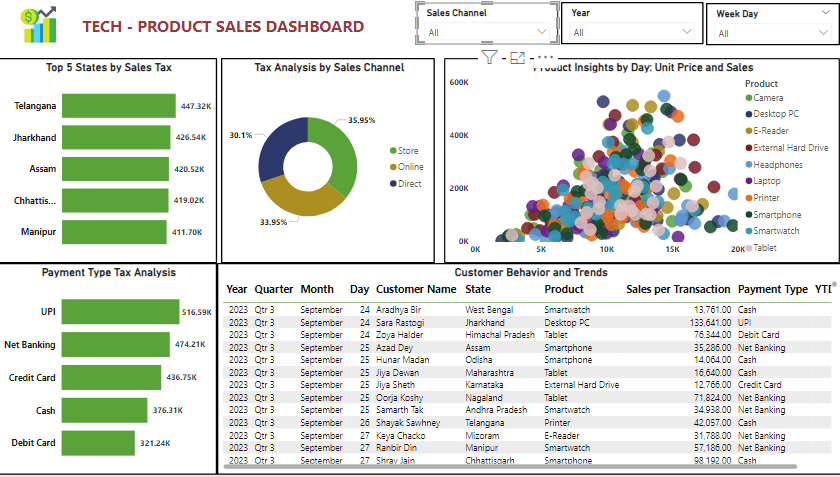

The page's visual inventory and layout, read from the dashboard file:
{"tool":"powerbi","page":{"name":"Detail-Overview","canvas":[1280,720],"ordinal":1},"visuals":[{"type":"clusteredBarChart","title":"Top 5 States by Sales Tax","fields":{"Category":["SalesData.State"],"Y":["_Sales_Measures.Total_Sales_Tax"]},"box":[0,87.9,331.8,310.6],"z":0},{"type":"donutChart","title":"Tax Analysis by Sales Channel","fields":{"Y":["_Sales_Measures.Total_Sales_Tax"],"Category":["SalesData.Sales Channel"]},"box":[337.9,87.9,324.2,310.6],"z":1000},{"type":"slicer","fields":{"Values":["Dates.DayName"]},"box":[1072.2,4.4,203.4,63.9],"z":2000},{"type":"slicer","fields":{"Values":["Dates.Year"]},"box":[852.8,2.9,216.5,63.9],"z":3000},{"type":"slicer","fields":{"Values":["SalesData.Sales Channel"]},"box":[633.5,2.9,216.5,63.9],"z":4000},{"type":"textbox","box":[122,0,495.4,74.1],"z":5000},{"type":"image","box":[0,0,122,74.1],"z":6000},{"type":"clusteredBarChart","title":"Payment Type Tax Analysis","fields":{"Y":["_Sales_Measures.Total_Sales_Tax"],"Category":["SalesData.Payment Type"]},"box":[0,398.5,331.8,321.2],"z":7000},{"type":"scatterChart","title":"Product Insights by Day: Unit Price and Sales","fields":{"X":["Avg(SalesData.Unit Price (INR))"],"Series":["SalesData.Product"],"Category":["Dates.DateKey.Variation.Date Hierarchy.Day"],"Y":["_Sales_Measures.Total_Sales"]},"box":[675.8,87.9,600,310.6],"z":8000},{"type":"tableEx","title":"Customer Behavior and Trends","fields":{"Values":["Dates.DateKey.Variation.Date Hierarchy.Year","Dates.DateKey.Variation.Date Hierarchy.Quarter","Dates.DateKey.Variation.Date Hierarchy.Month","Dates.DateKey.Variation.Date Hierarchy.Day","SalesData.Customer Name","SalesData.State","SalesData.Product","_Sales_Measures.Sales per Transaction","SalesData.Payment Type","_Sales_Measures.YTD Sales"]},"box":[331.8,398.5,948.5,321.2],"z":9000}]}

Visuals, with their boxes in screenshot pixels (x1, y1, x2, y2), scaled from the page's 1280x720 canvas onto the 840x477 screenshot:
"Top 5 States by Sales Tax" clusteredBarChart: select_region(0, 58, 218, 264)
"Tax Analysis by Sales Channel" donutChart: select_region(222, 58, 435, 264)
slicer - Dates.DayName: select_region(704, 3, 837, 45)
slicer - Dates.Year: select_region(560, 2, 702, 44)
slicer - SalesData.Sales Channel: select_region(416, 2, 558, 44)
textbox: select_region(80, 0, 405, 49)
image: select_region(0, 0, 80, 49)
"Payment Type Tax Analysis" clusteredBarChart: select_region(0, 264, 218, 476)
"Product Insights by Day: Unit Price and Sales" scatterChart: select_region(443, 58, 837, 264)
"Customer Behavior and Trends" tableEx: select_region(218, 264, 839, 476)
